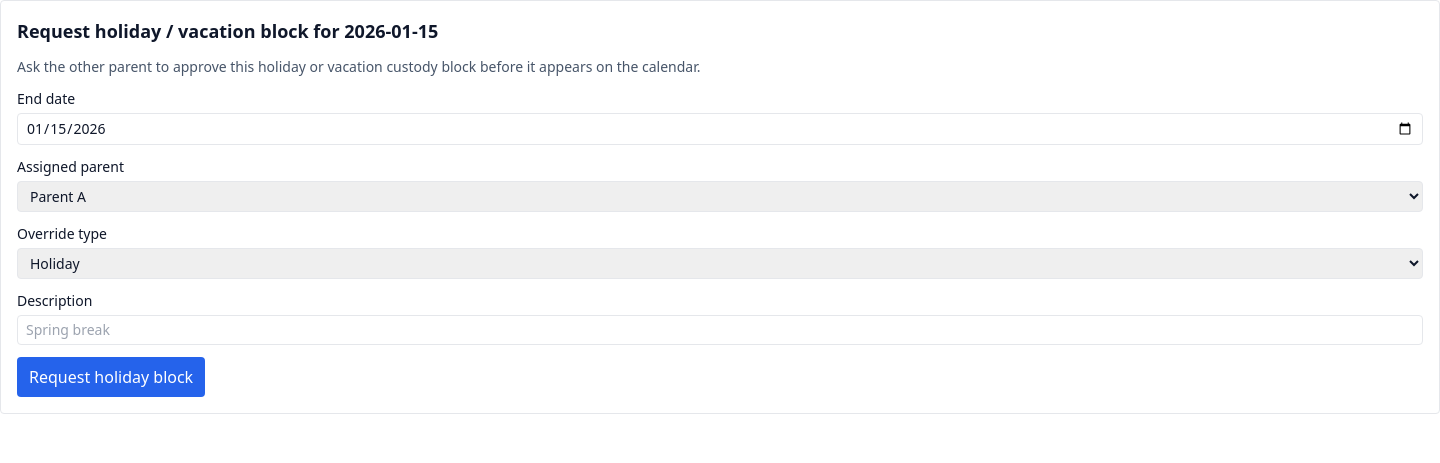
it: OverrideForm › shows the parent-only error message on 403
The image size is (1440, 463).
Type "Holiday" into the field labelled "Description" at (720, 330), box [17,315,1423,345]
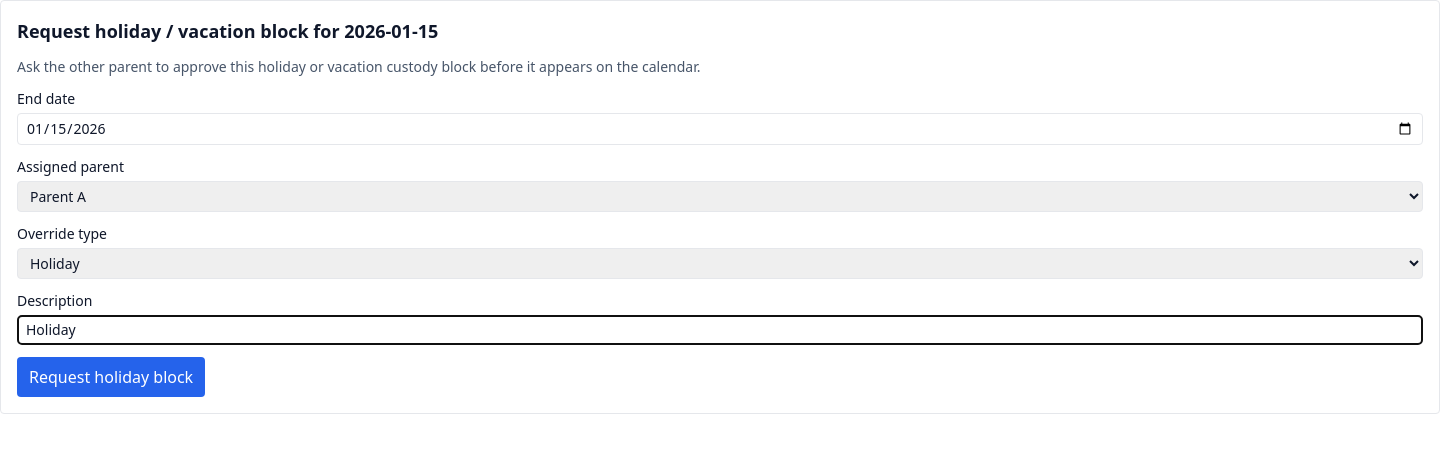
Click the button "Request holiday block" at (111, 377), box [17,357,205,397]
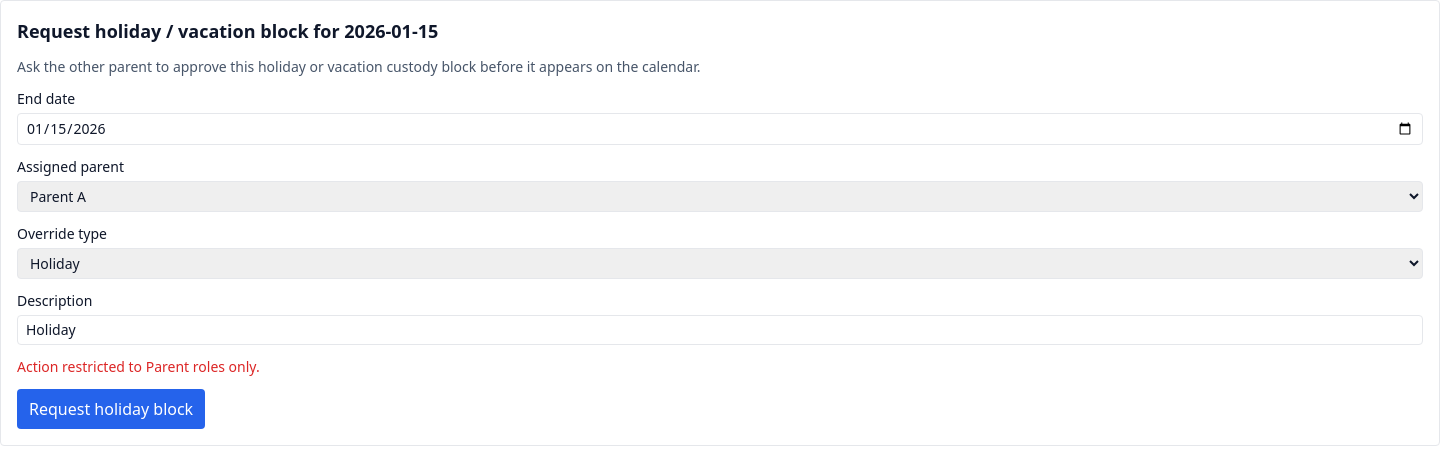
Check: the text "Action restricted to Parent roles only." is shown, box [17,357,260,376]
